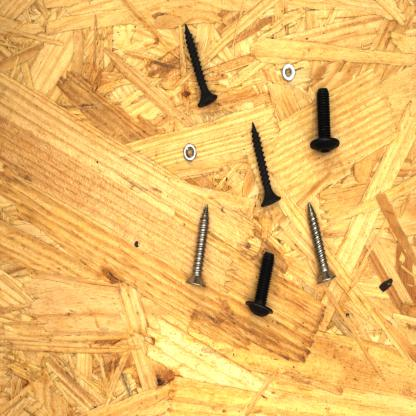screw: (180, 19, 222, 112), (245, 118, 284, 212), (181, 201, 216, 292), (304, 199, 340, 287), (243, 247, 280, 322), (306, 83, 342, 156)
